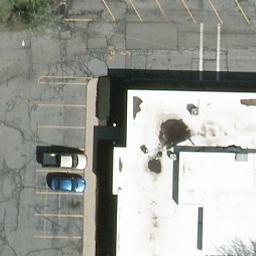car: (50, 176, 87, 193)
pickup: (41, 153, 88, 169)
